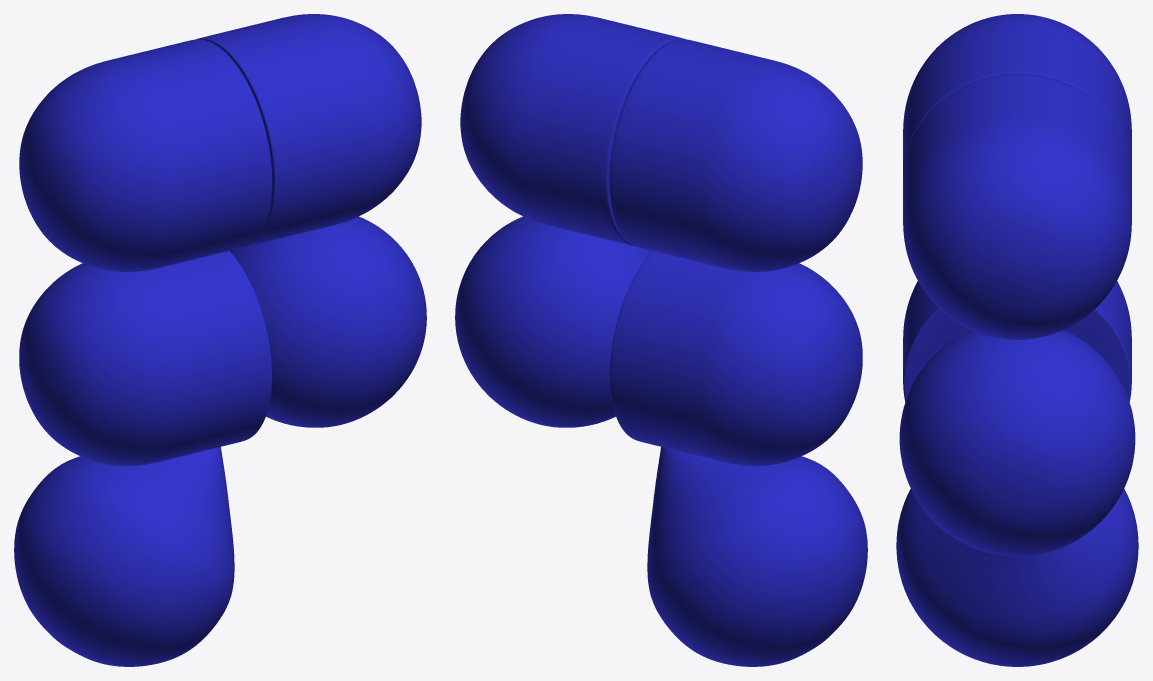
The model's file is figma.gltf.
3 views of the same model, side by side, from view 1: azimuth 30°, elevation 25°; view 2: azimuth 150°, elevation 25°; view 3: azimuth 270°, elevation 25° (orthographic). The views are drawn at different scales.
Parts seen in each view (by area): view 1: Cylinder.006; view 2: Cylinder.006; view 3: Cylinder.006.
Boxes of the visible parts, bbox=[...] form: Cylinder.006: bbox=[14, 14, 426, 666]; Cylinder.006: bbox=[455, 14, 867, 666]; Cylinder.006: bbox=[896, 14, 1138, 666].
Size of the model in its own units: 1.3 by 1.91 by 0.6666.
